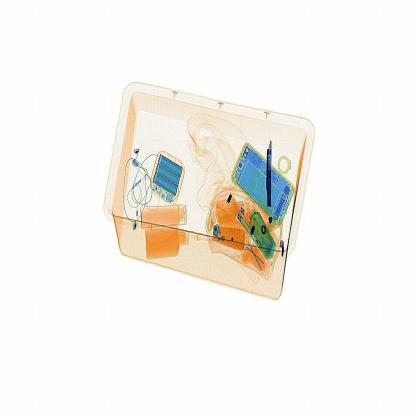pliers: (263, 132, 276, 214)
